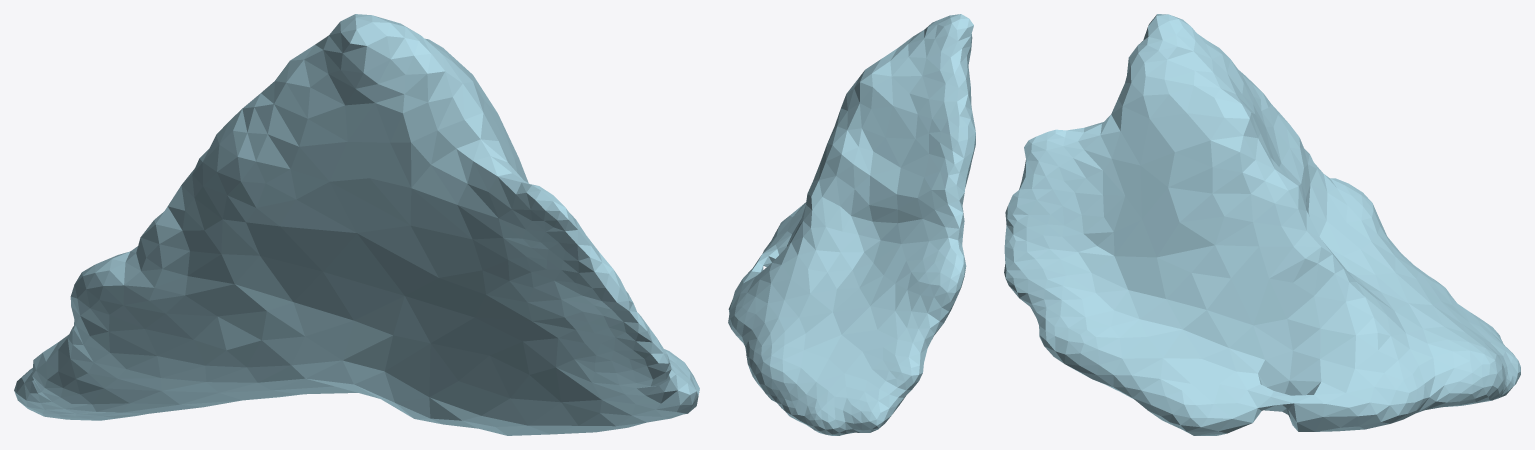
Rendered from rightsurrenalgland.obj.
The picture shows the model from 3 angles, left to right: view 1: azimuth 30°, elevation 25°; view 2: azimuth 150°, elevation 25°; view 3: azimuth 270°, elevation 25°; orthographic projection. The views are drawn at different scales.
Parts seen in each view (by area): view 1: grp1; view 2: grp1; view 3: grp1.
Part boxes in pixels (x1,y1,x2,y2): grp1: (14,14,699,435); grp1: (728,14,975,435); grp1: (1004,14,1520,435).
Size of the model in its own units: 31.22 by 37.08 by 45.94.
